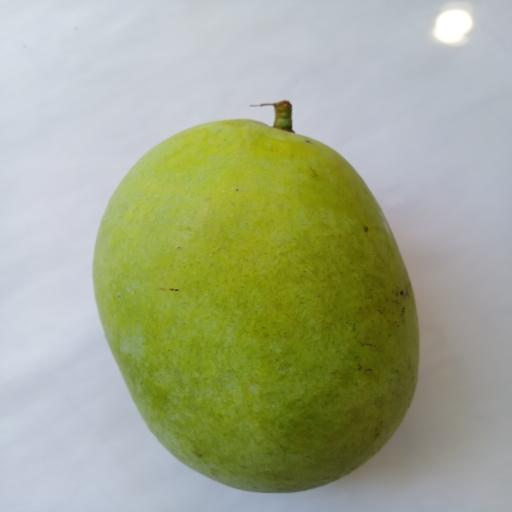mango-unripe: (83, 94, 446, 500)
